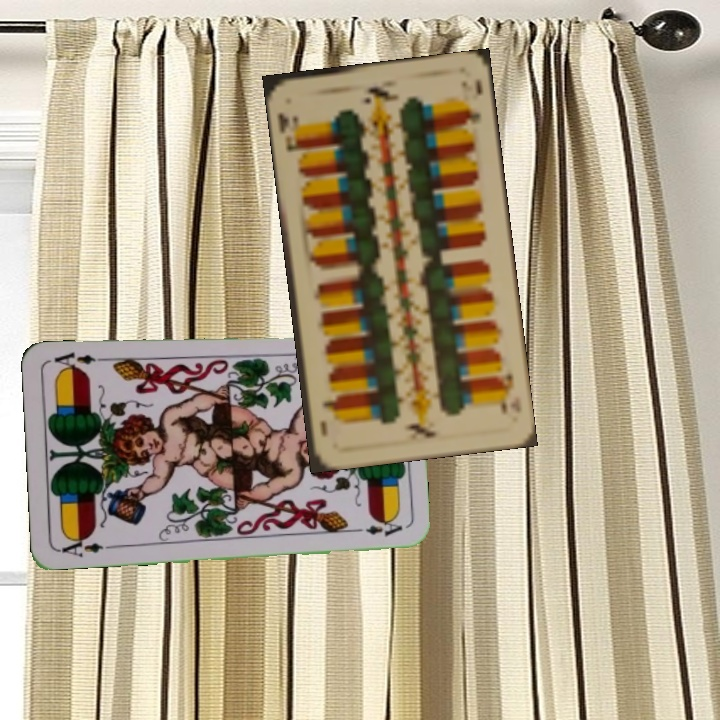E10: (275, 109, 305, 155), (493, 369, 517, 417)
EA: (55, 532, 114, 560)
